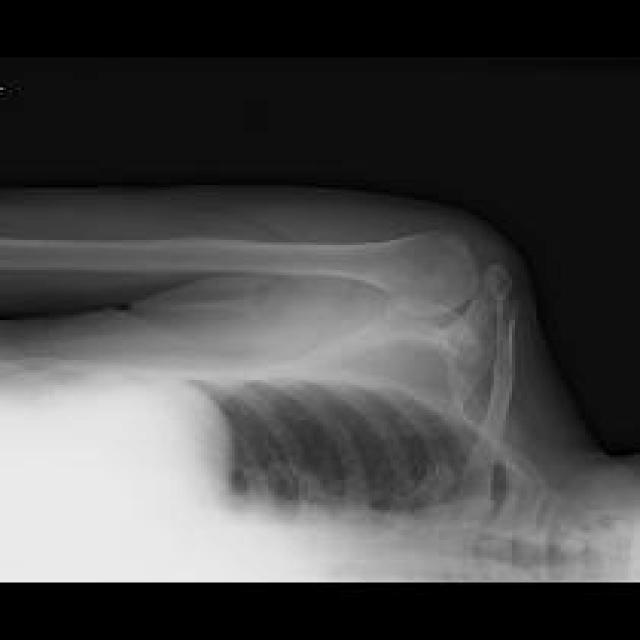normal: (7, 229, 477, 318)
